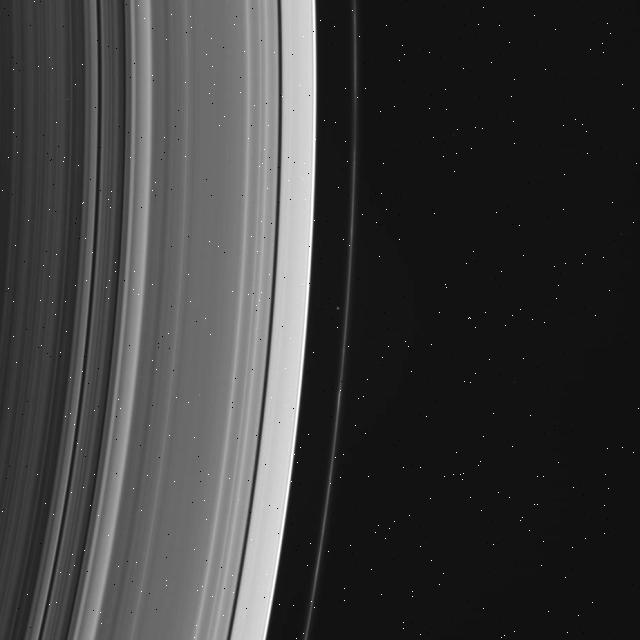Saturn: (0, 0, 360, 640)
